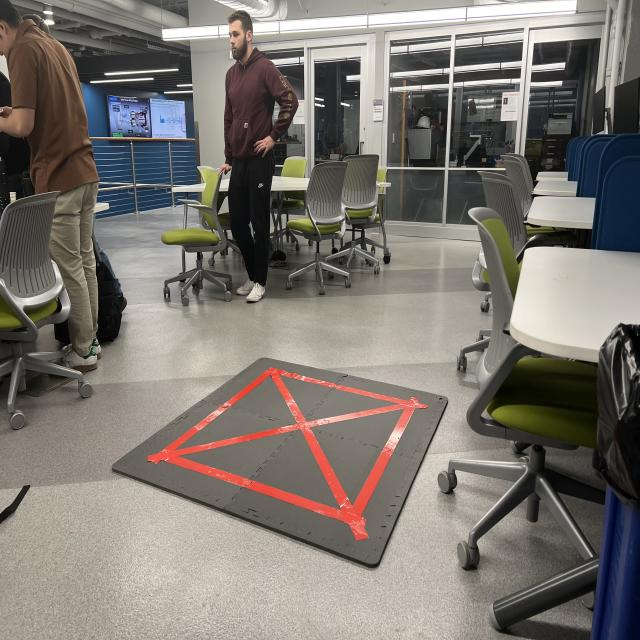landingPads: (116, 357, 448, 564)
